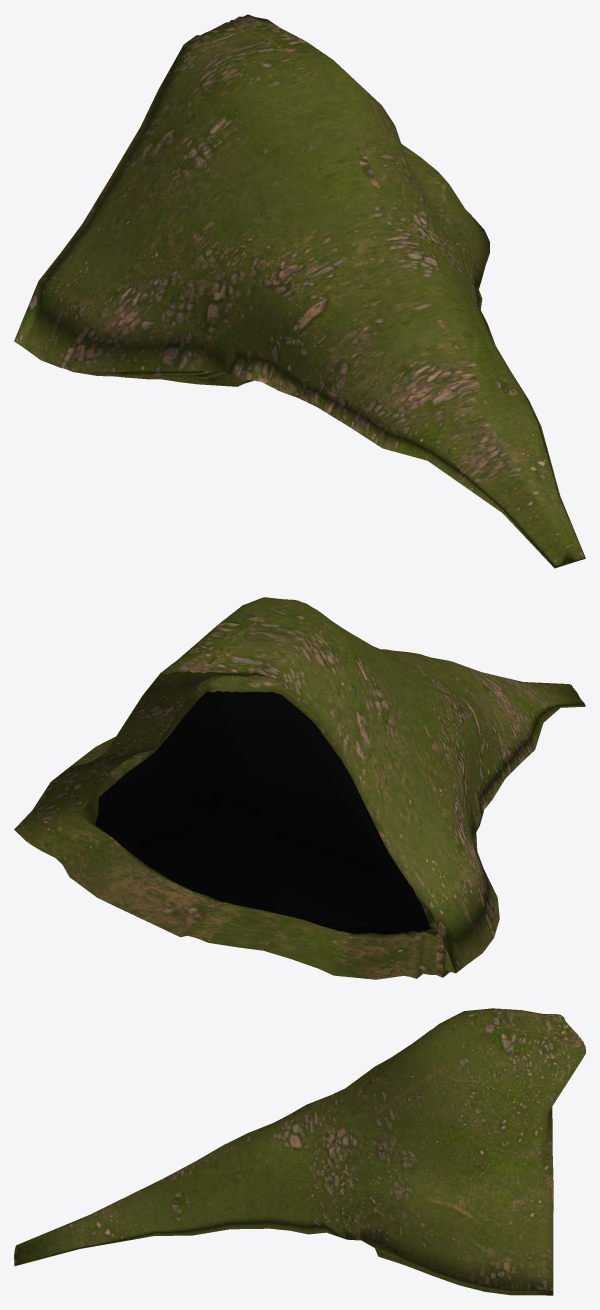
Rendered from GlowfoxHome.glb.
3 renders of one model, top to bottom at view 1: azimuth 30°, elevation 25°; view 2: azimuth 150°, elevation 25°; view 3: azimuth 270°, elevation 25°, orthographic. The views are drawn at different scales.
Visible parts, largest first — view 1: Plane; view 2: Plane; view 3: Plane.
Part boxes in pixels (bbox=[...]): Plane: bbox=[14, 14, 585, 568]; Plane: bbox=[14, 597, 585, 979]; Plane: bbox=[14, 1008, 585, 1295].
Bounding box in the file's own units: 18.2 × 11.92 × 25.77.
2 materials, 1 textured.
